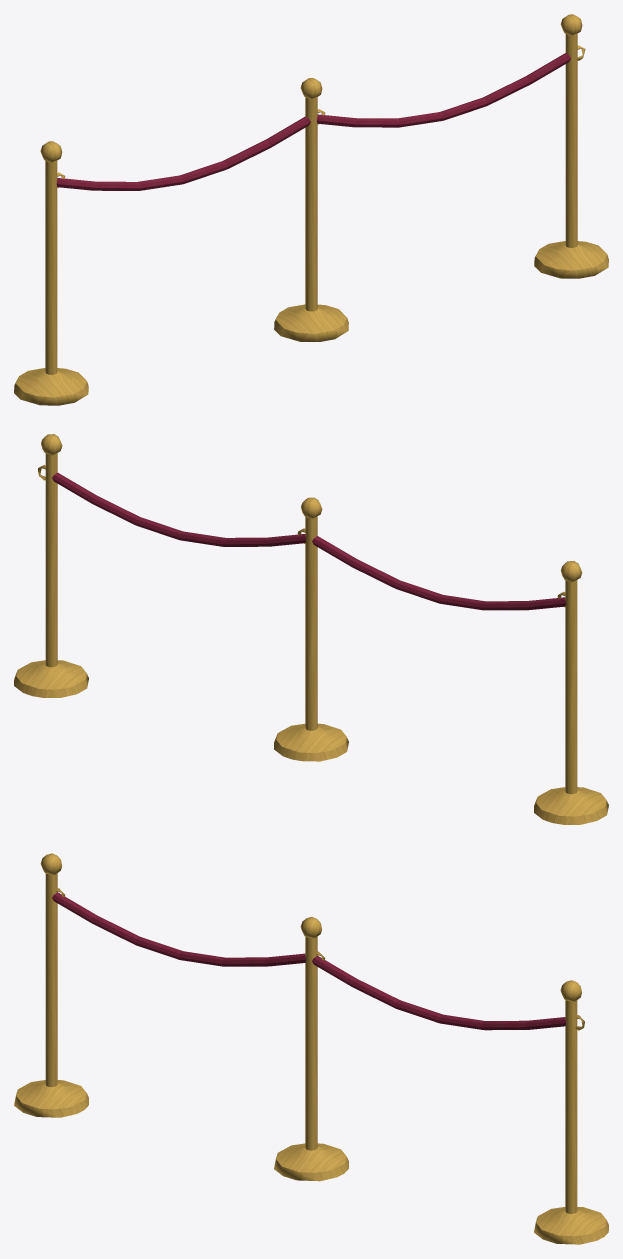
File: pedestais-com-cordao-leve.glb
3 views of the same model, one above another, from view 1: azimuth 30°, elevation 25°; view 2: azimuth 150°, elevation 25°; view 3: azimuth 330°, elevation 25° (orthographic).
Parts seen in each view (by area): view 1: coluna, coluna.001, coluna.002, base, base.002, base.001; view 2: coluna, coluna.002, coluna.001, base.001, base.002, base; view 3: coluna.002, coluna.001, coluna, base.002, base.001, base.
Boxes of the visible parts, bbox=[...] form: coluna: bbox=[45, 160, 57, 374]; coluna.001: bbox=[305, 97, 317, 311]; coluna.002: bbox=[565, 33, 577, 247]; base: bbox=[14, 368, 88, 405]; base.002: bbox=[534, 241, 608, 278]; base.001: bbox=[274, 304, 348, 341]; coluna: bbox=[565, 580, 577, 794]; coluna.002: bbox=[45, 453, 57, 667]; coluna.001: bbox=[305, 516, 317, 730]; base.001: bbox=[274, 723, 348, 761]; base.002: bbox=[14, 660, 88, 697]; base: bbox=[534, 787, 608, 824]; coluna.002: bbox=[565, 1000, 577, 1213]; coluna.001: bbox=[305, 936, 317, 1150]; coluna: bbox=[45, 873, 57, 1086]; base.002: bbox=[534, 1207, 608, 1244]; base.001: bbox=[274, 1143, 348, 1181]; base: bbox=[14, 1080, 88, 1117].
Bounding box in the file's own units: 2.48 × 0.9998 × 0.2803.
2 materials, 2 textured.
